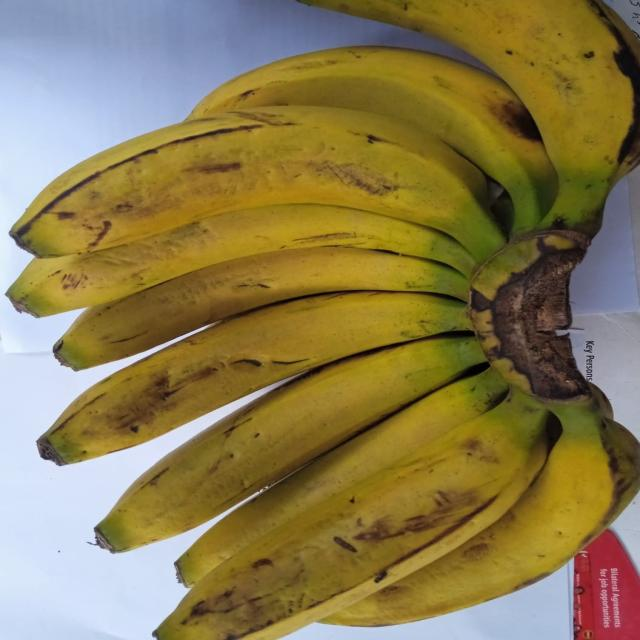banana: (154, 391, 547, 639), (96, 336, 484, 552), (300, 0, 639, 236), (11, 106, 504, 262), (39, 292, 470, 464), (176, 369, 507, 586), (324, 400, 639, 626), (189, 46, 557, 233), (7, 204, 475, 316), (54, 248, 469, 360)
